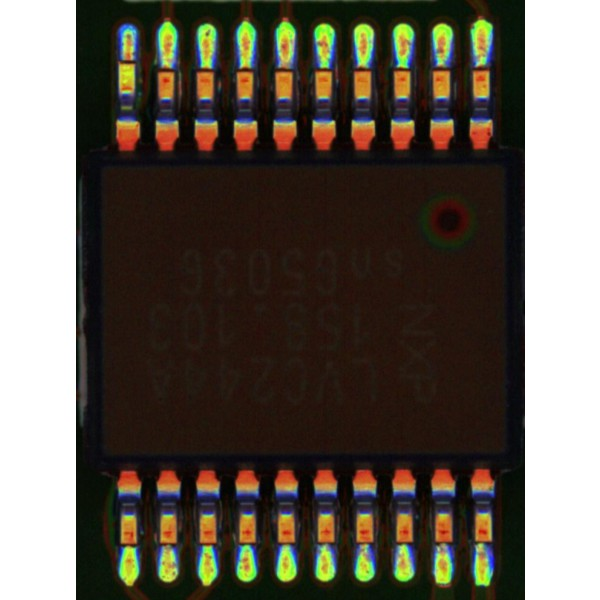Bad_podu: (123, 49, 132, 75)
